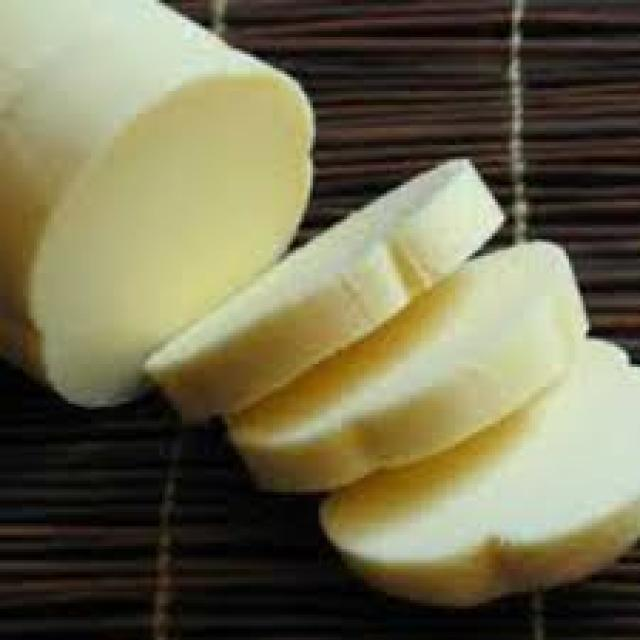cheese: (151, 159, 640, 589)
